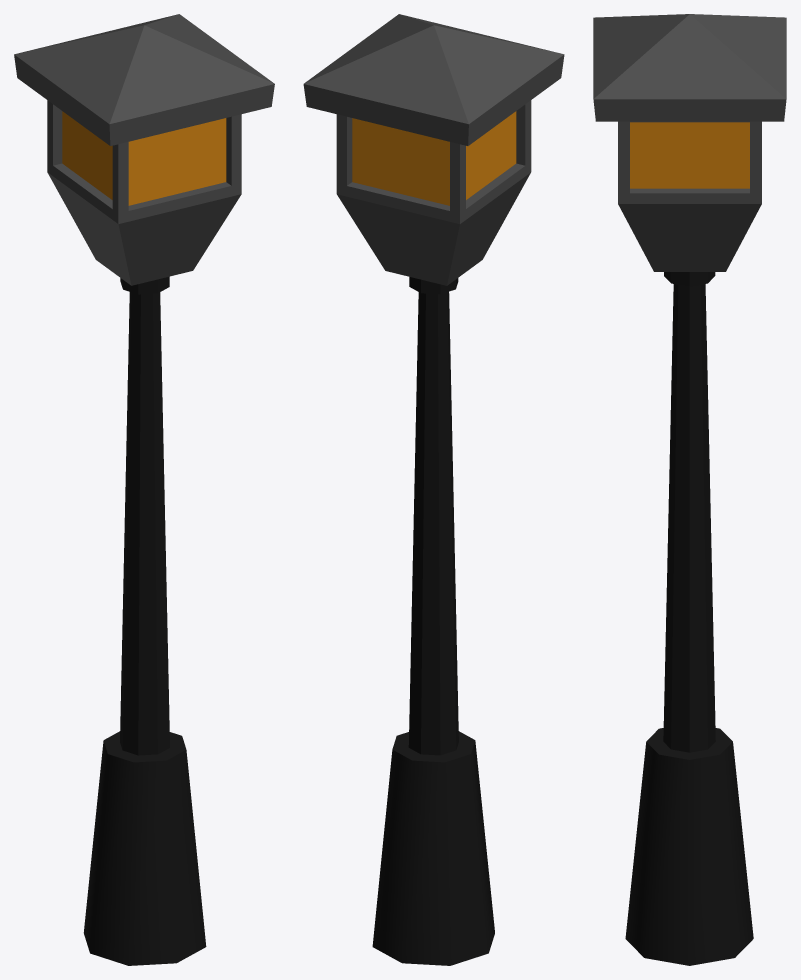
File: Light2.fbx
3 renders of one model, left to right at view 1: azimuth 30°, elevation 25°; view 2: azimuth 150°, elevation 25°; view 3: azimuth 270°, elevation 25°, orthographic.
Parts seen in each view (by area): view 1: Light2; view 2: Light2; view 3: Light2.
Boxes of the visible parts, left/top/right/bottom form: Light2: left=14, top=14, right=274, bottom=965; Light2: left=303, top=14, right=564, bottom=965; Light2: left=593, top=14, right=786, bottom=965.
Bounding box in the file's own units: 115 × 606 × 115.
